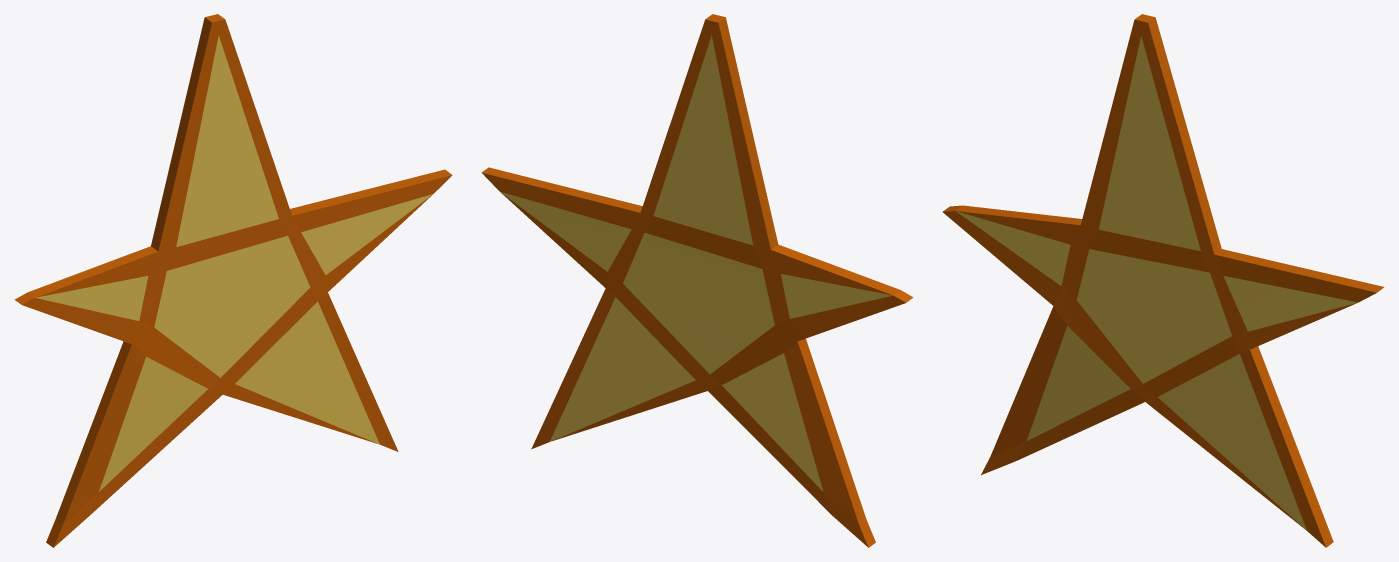
Rendered from star.fbx.
3 views of the same model, side by side, from view 1: azimuth 30°, elevation 25°; view 2: azimuth 150°, elevation 25°; view 3: azimuth 330°, elevation 25° (orthographic). The views are drawn at different scales.
Parts seen in each view (by area): view 1: Plane.001; view 2: Plane.001; view 3: Plane.001.
Boxes of the visible parts, bbox=[...] form: Plane.001: bbox=[14, 14, 452, 547]; Plane.001: bbox=[481, 14, 913, 547]; Plane.001: bbox=[942, 14, 1384, 547].
Bounding box in the file's own units: 166 × 181 × 7.98.
